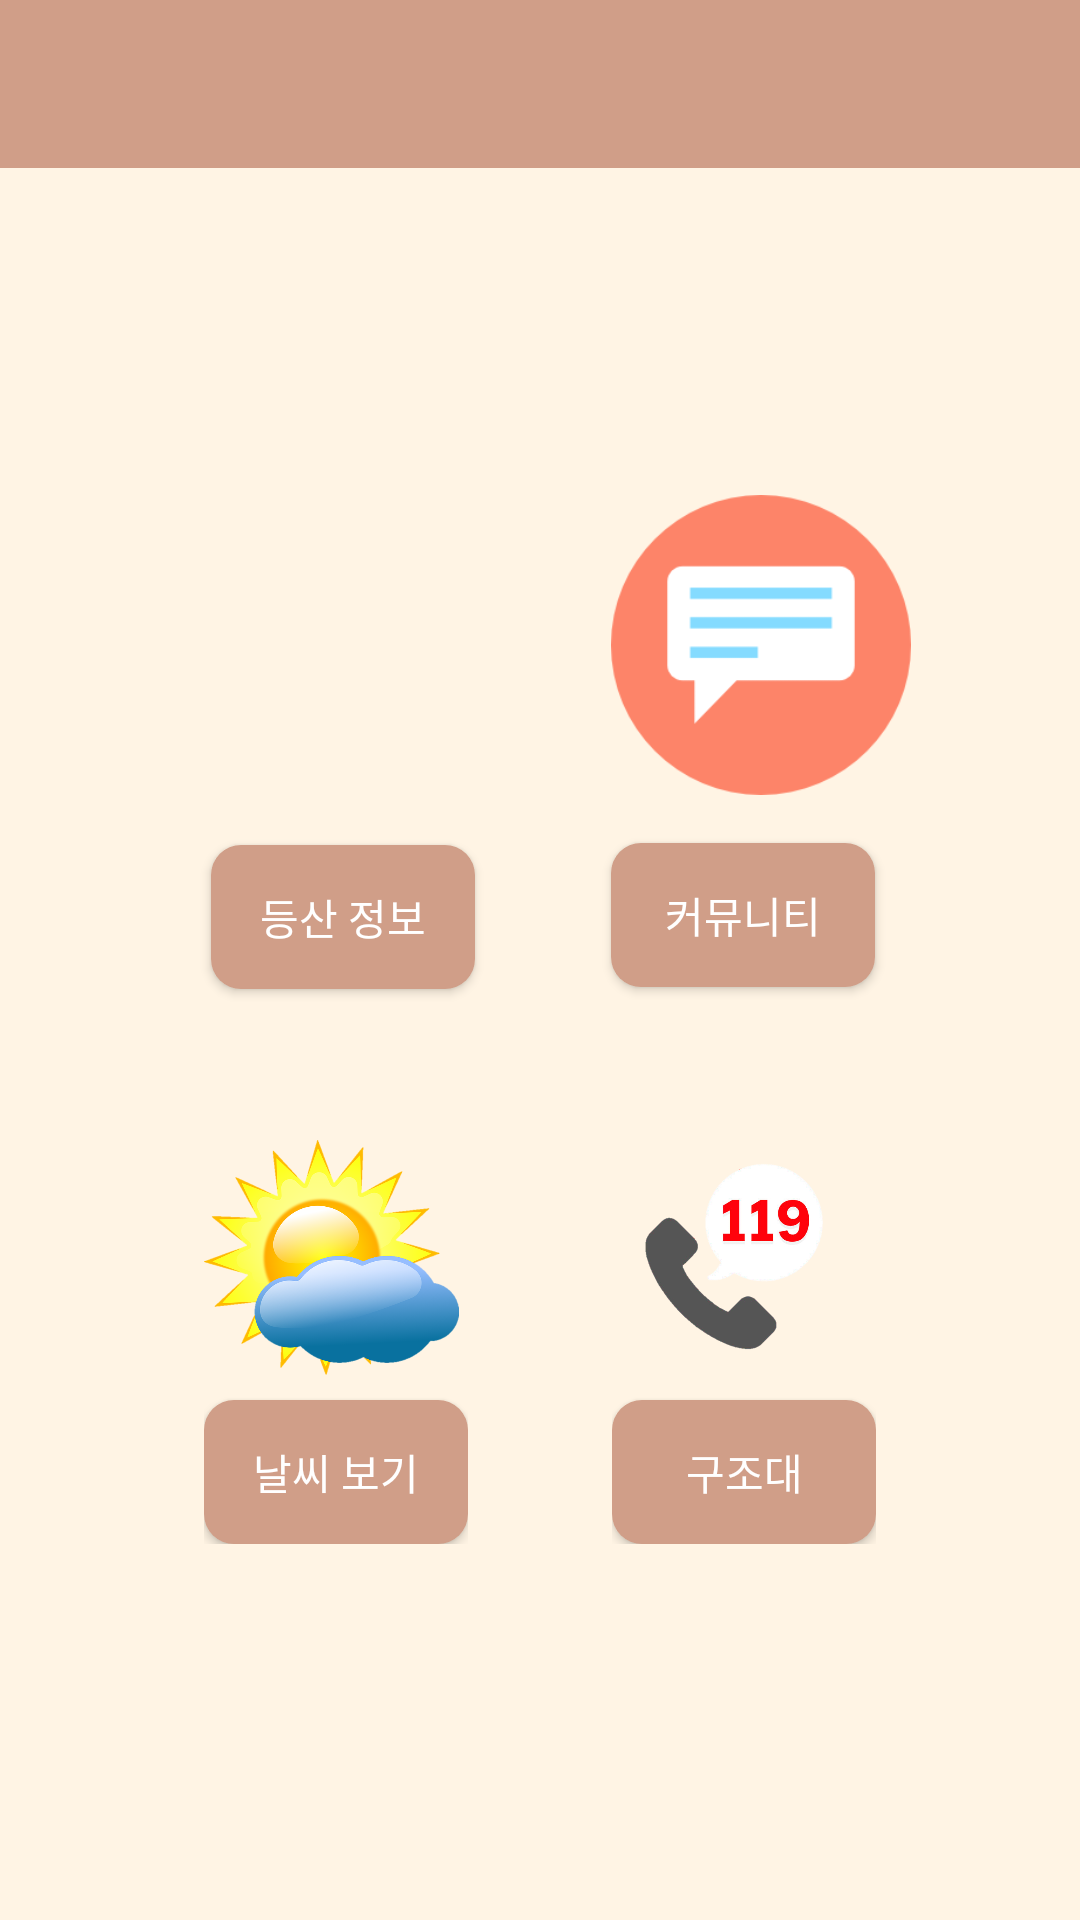

Icon bounding boxes for this 1080×1920 phone screenshot, format (x1, y1, x2, y2):
chat: (611, 495, 911, 795)
gujo: (645, 1165, 822, 1349)
